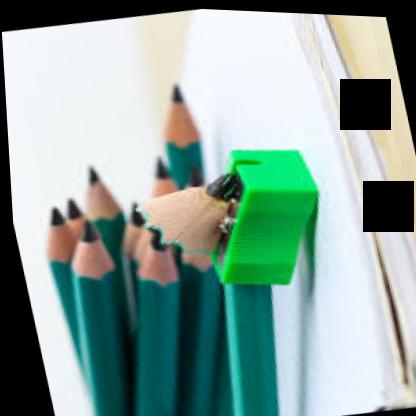pencil: (154, 70, 221, 416), (40, 201, 119, 416), (84, 158, 142, 416), (61, 189, 124, 416), (64, 212, 126, 416), (212, 220, 276, 416), (145, 147, 189, 416), (131, 221, 185, 416), (173, 211, 216, 416), (120, 191, 158, 416)
